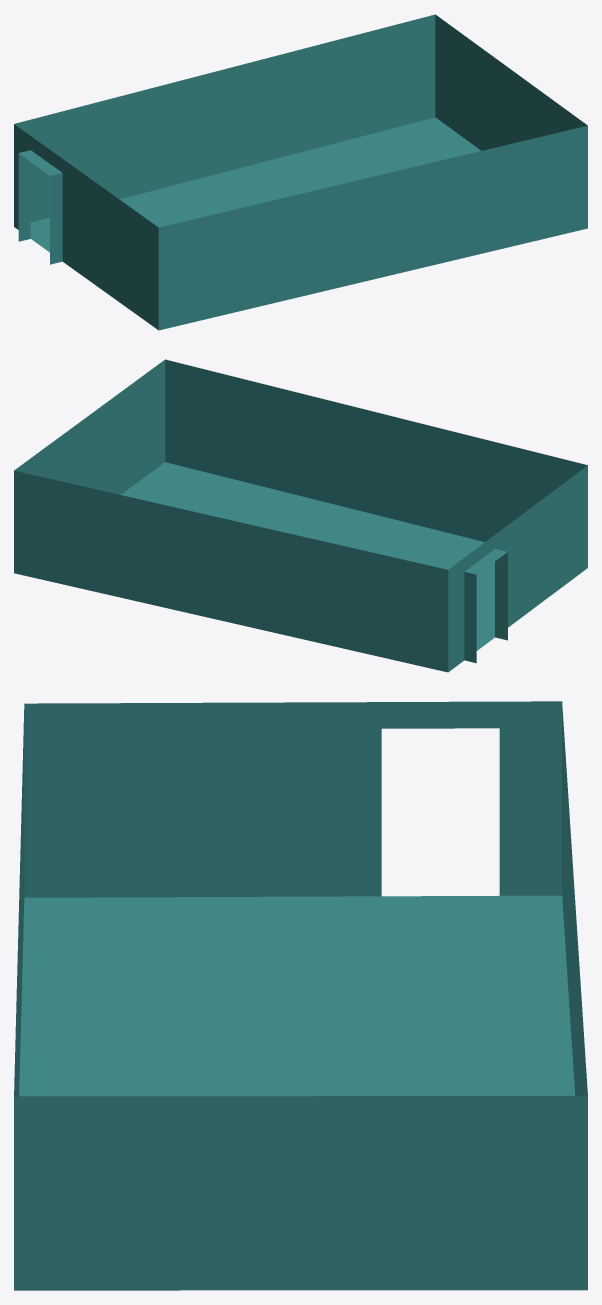
The model's file is room_d.glb.
The picture shows the model from 3 angles, top to bottom: view 1: azimuth 30°, elevation 25°; view 2: azimuth 150°, elevation 25°; view 3: azimuth 270°, elevation 25°; orthographic projection. The views are drawn at different scales.
Visible parts, largest first — view 1: room_d; view 2: room_d; view 3: room_d.
Boxes of the visible parts, box(x1,y1,x2,y2) form: room_d: box(14, 14, 587, 330); room_d: box(14, 359, 587, 672); room_d: box(14, 701, 587, 1290).
Bounding box in the file's own units: 30.29 × 6.76 × 18.1.
